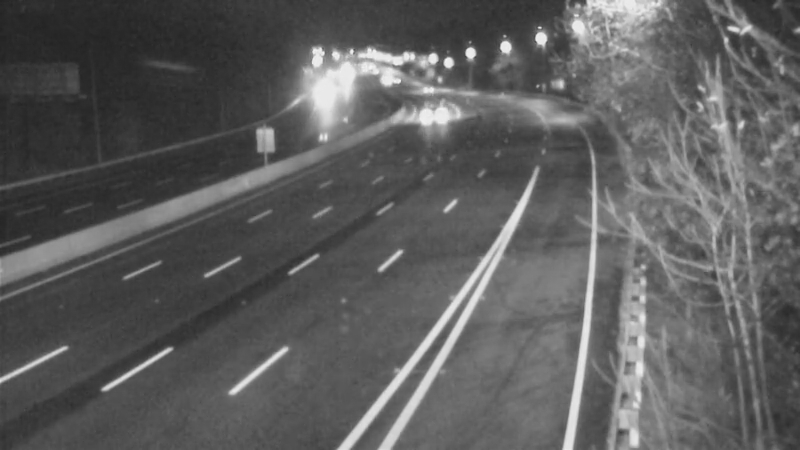vehicle: (360, 54, 410, 104), (398, 63, 448, 113), (410, 88, 460, 138)
